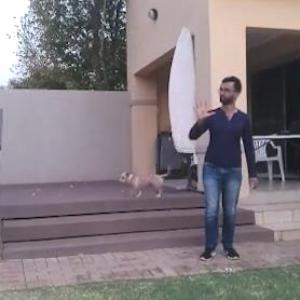follow_hand: (189, 93, 217, 122)
